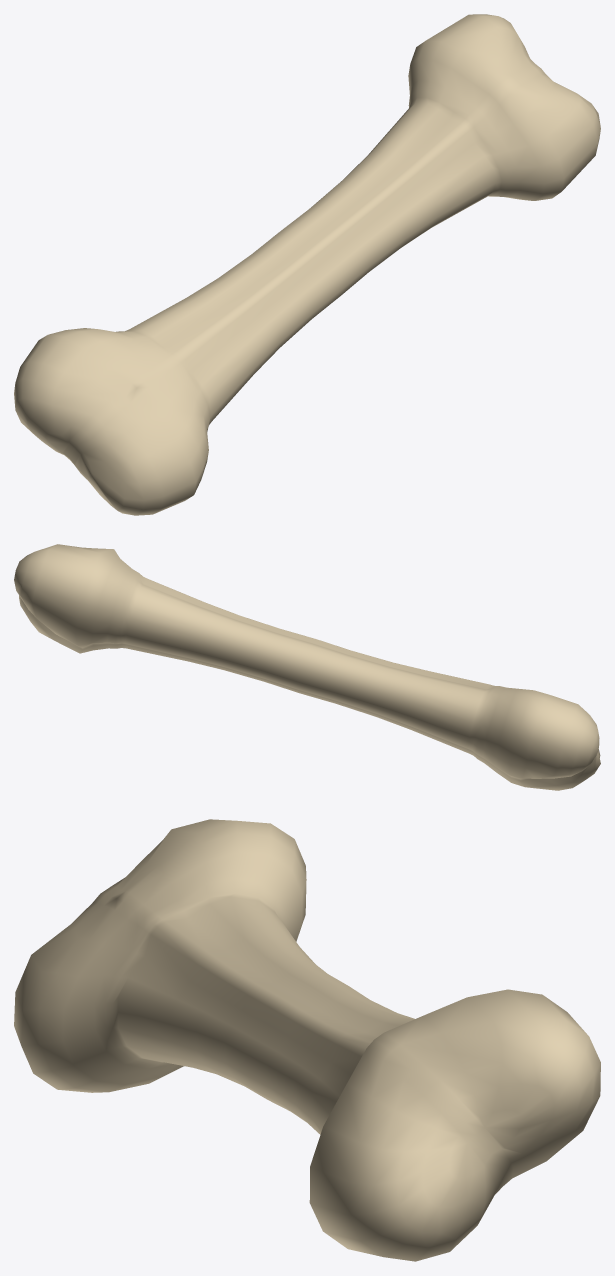
The model's file is Bone.fbx.
The picture shows the model from 3 angles, top to bottom: view 1: azimuth 30°, elevation 25°; view 2: azimuth 150°, elevation 25°; view 3: azimuth 270°, elevation 25°; orthographic projection. The views are drawn at different scales.
Parts seen in each view (by area): view 1: Bone; view 2: Bone; view 3: Bone.
Part boxes in pixels (x1,y1,x2,y2): Bone: (14,14,600,515); Bone: (14,544,600,790); Bone: (14,819,600,1261).
Size of the model in its own units: 90.99 by 37.02 by 45.5.
